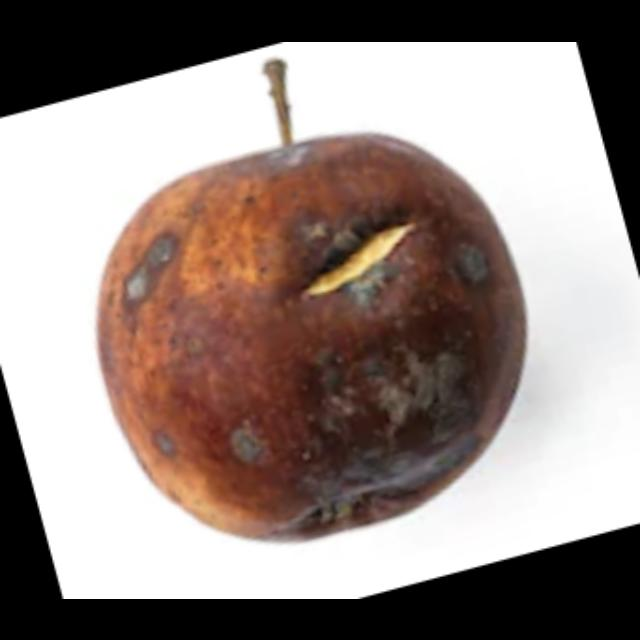Apel Tidak Segar: (50, 49, 566, 551)
